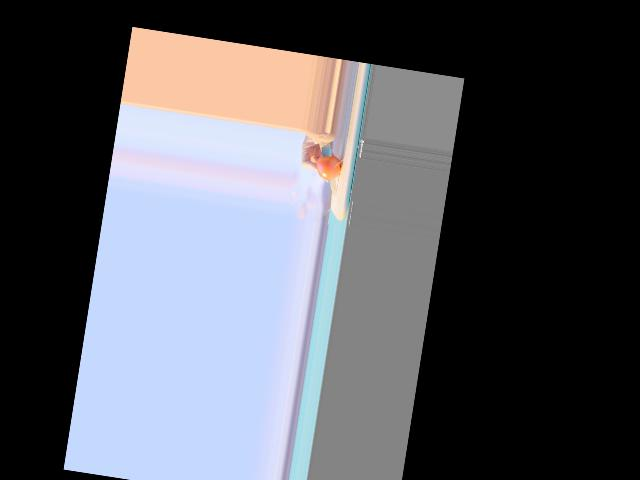tomato: (315, 153, 343, 182)
